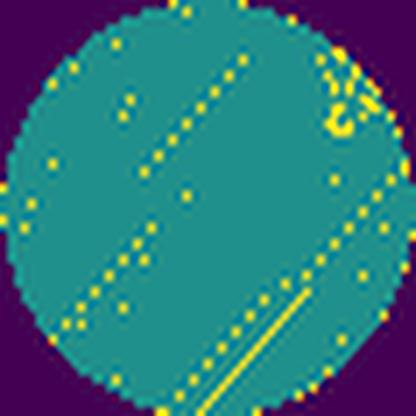Scratch: (174, 158, 411, 414), (136, 49, 253, 180), (57, 214, 162, 338)
